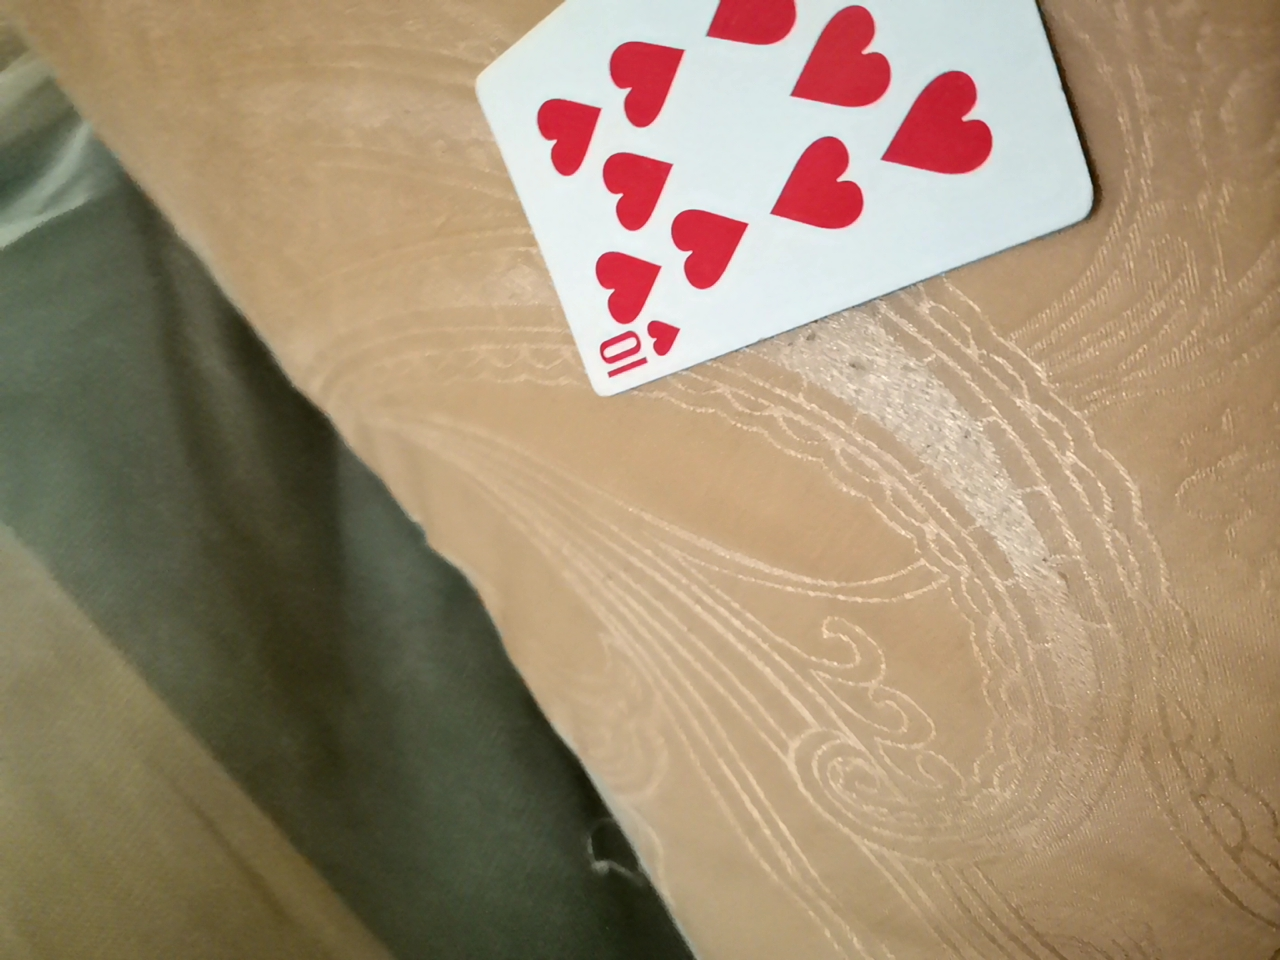hx 10: (471, 1, 1083, 417)
